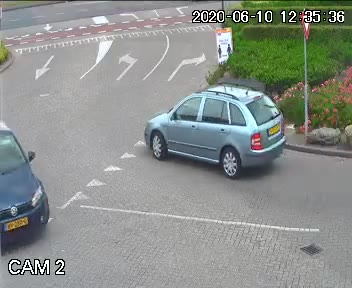car: (139, 73, 292, 179), (0, 114, 61, 247)
